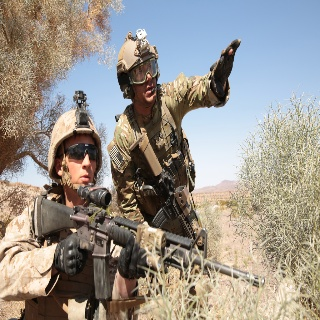rifle: (33, 186, 265, 305), (128, 133, 209, 242)
